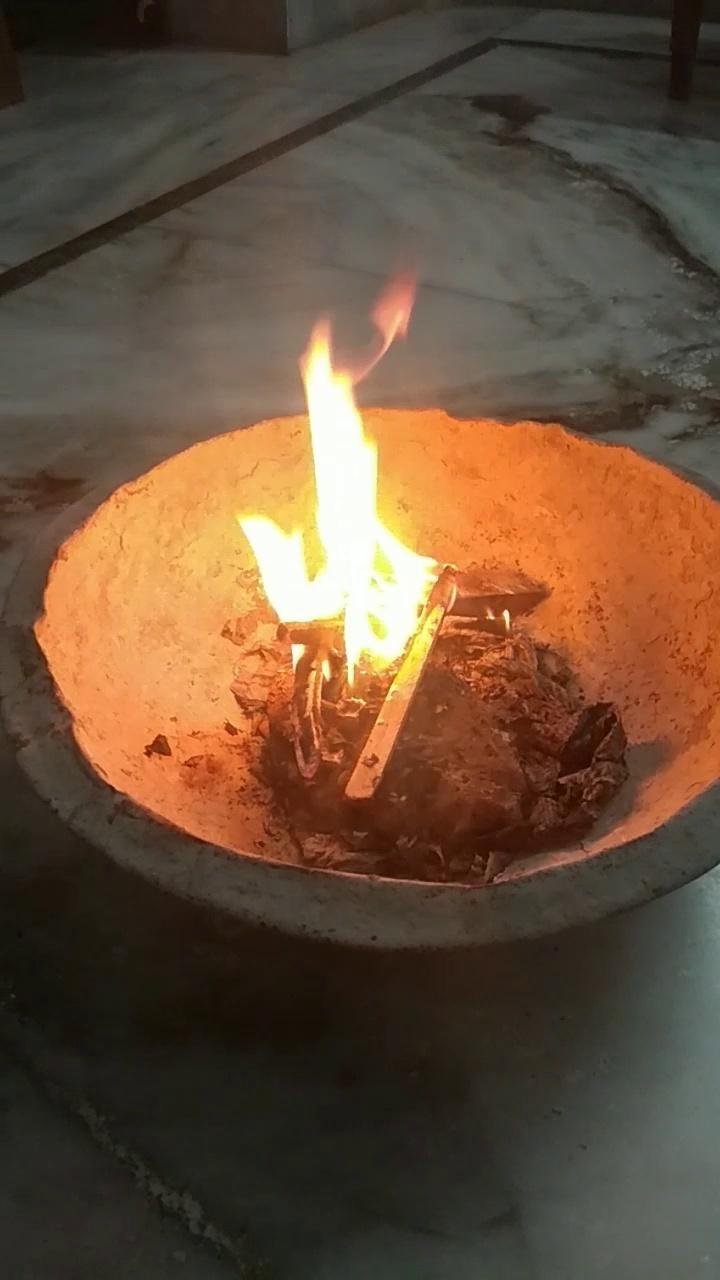fire: (240, 284, 475, 680)
